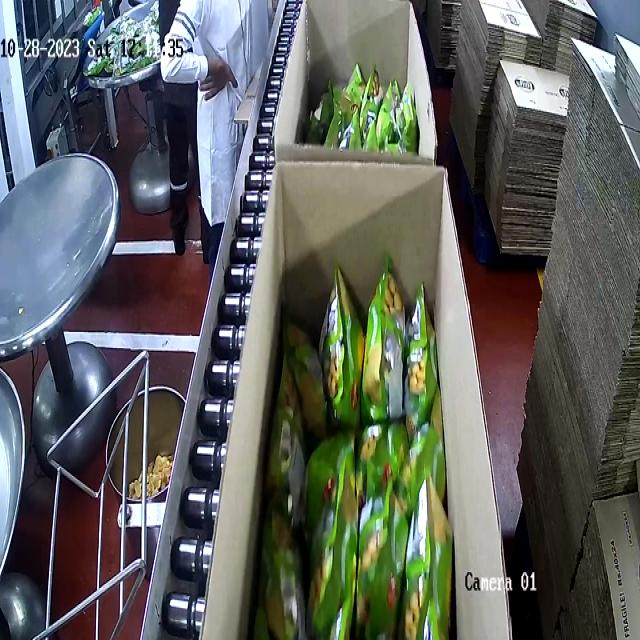YOGURT_HERB: (245, 276, 461, 640), (304, 48, 420, 156)
